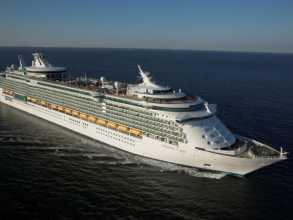youlun: (1, 47, 289, 175)
